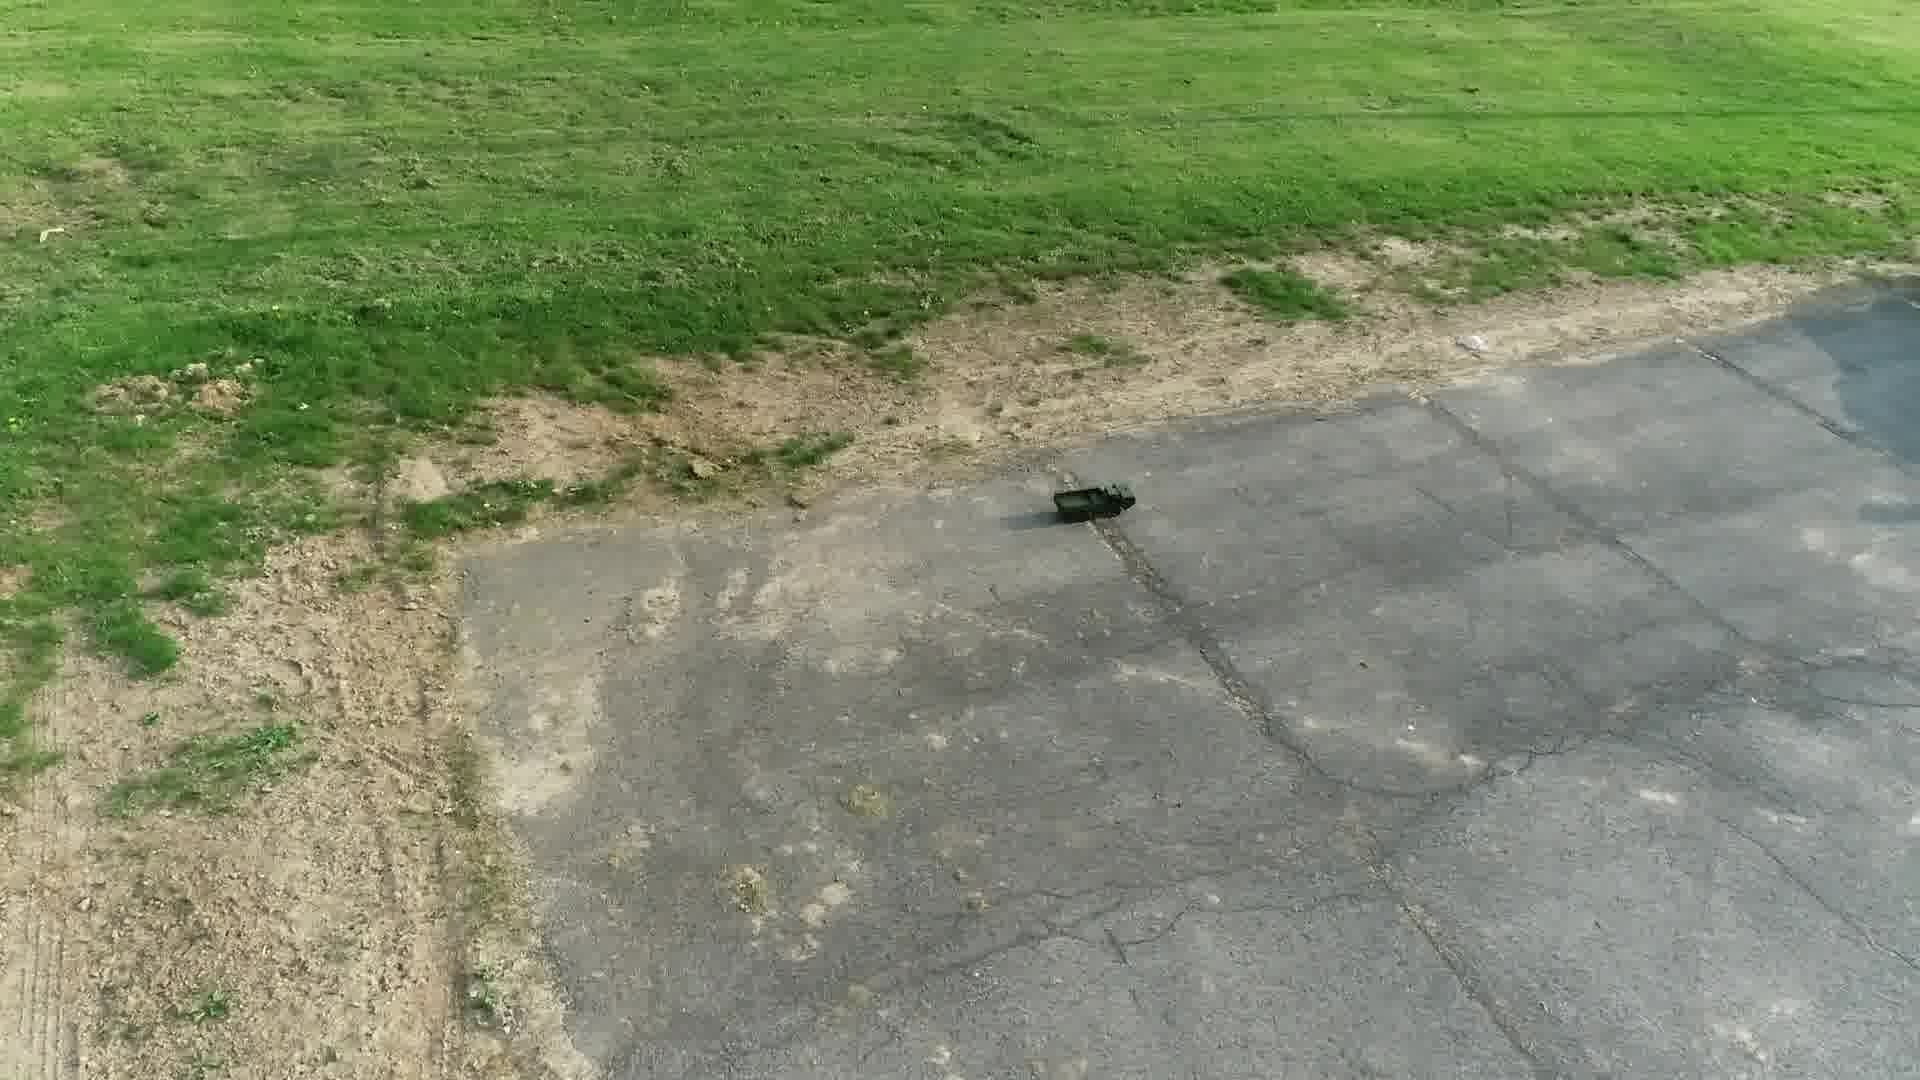transporter9: (1046, 475, 1139, 527)
